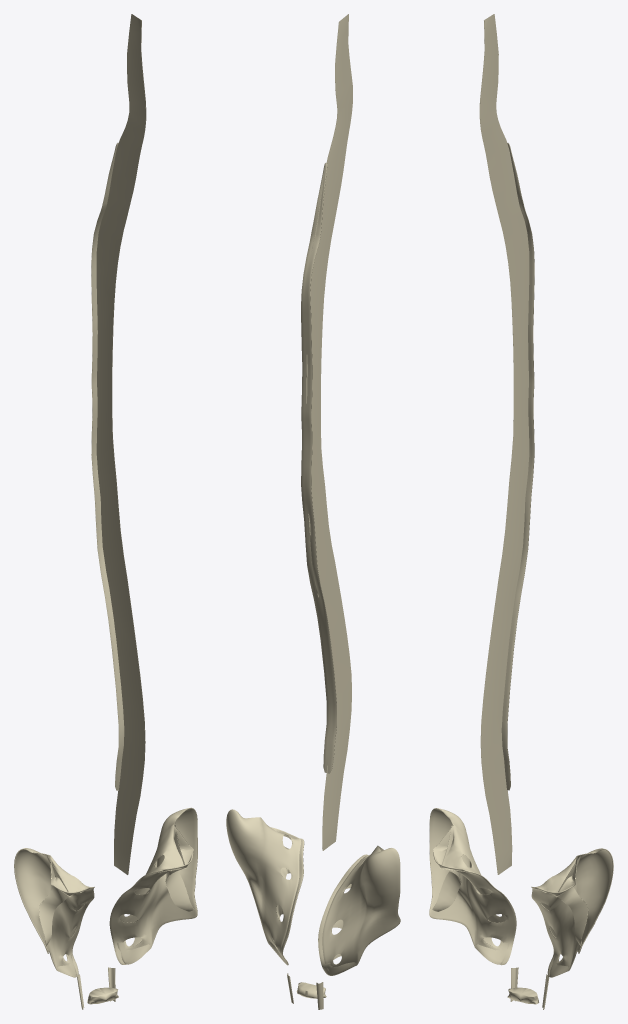
Rendered from joints.back.glb.
3 renders of one model, left to right at view 1: azimuth 30°, elevation 25°; view 2: azimuth 150°, elevation 25°; view 3: azimuth 330°, elevation 25°, orthographic. The views are drawn at different scales.
Parts seen in each view (by area): view 1: interspinous_ligaments, left_posterior_sacro_iliac_ligament, right_posterior_sacro_iliac_ligament, supraspinous_ligament, right_interosseous_sacro_iliac_ligament, left_interosseous_sacro_iliac_ligament; view 2: interspinous_ligaments, right_posterior_sacro_iliac_ligament, left_posterior_sacro_iliac_ligament, supraspinous_ligament; view 3: interspinous_ligaments, right_posterior_sacro_iliac_ligament, left_posterior_sacro_iliac_ligament, supraspinous_ligament, left_interosseous_sacro_iliac_ligament, right_interosseous_sacro_iliac_ligament.
Part boxes in pixels (left/top/right/bottom): interspinous_ligaments: left=96, top=14, right=146, bottom=874; left_posterior_sacro_iliac_ligament: left=109, top=807, right=197, bottom=964; right_posterior_sacro_iliac_ligament: left=14, top=848, right=94, bottom=977; supraspinous_ligament: left=91, top=143, right=124, bottom=790; right_interosseous_sacro_iliac_ligament: left=38, top=856, right=70, bottom=945; left_interosseous_sacro_iliac_ligament: left=165, top=825, right=194, bottom=911; interspinous_ligaments: left=306, top=14, right=352, bottom=850; right_posterior_sacro_iliac_ligament: left=318, top=845, right=400, bottom=975; left_posterior_sacro_iliac_ligament: left=226, top=809, right=304, bottom=965; supraspinous_ligament: left=301, top=163, right=336, bottom=773; interspinous_ligaments: left=479, top=14, right=529, bottom=874; right_posterior_sacro_iliac_ligament: left=429, top=808, right=516, bottom=965; left_posterior_sacro_iliac_ligament: left=531, top=848, right=613, bottom=977; supraspinous_ligament: left=501, top=143, right=534, bottom=790; left_interosseous_sacro_iliac_ligament: left=556, top=856, right=588, bottom=945; right_interosseous_sacro_iliac_ligament: left=432, top=825, right=461, bottom=911.
Bounding box in the file's own units: 0.1245 × 0.658 × 0.0634.
